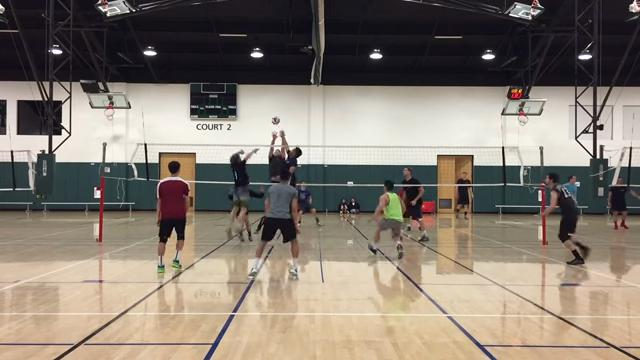Attack: (226, 143, 253, 243), (278, 128, 303, 219)
Block: (264, 129, 288, 183)
Player: (249, 169, 299, 278), (543, 173, 589, 264), (157, 161, 189, 272), (368, 180, 404, 258), (402, 167, 428, 241), (298, 181, 320, 225), (244, 216, 252, 240)
ball: (270, 115, 281, 125)
